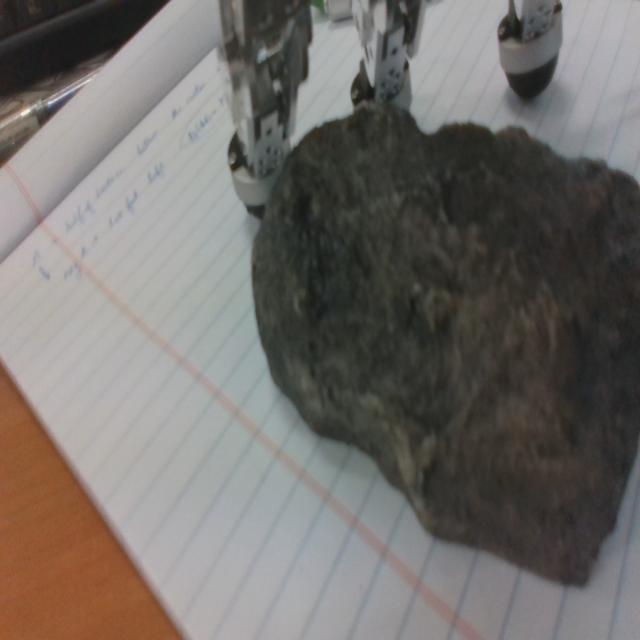stone: (251, 110, 640, 586)
